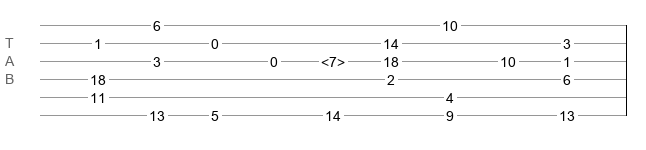0: (211, 36, 219, 46), (270, 54, 278, 64)
1: (94, 36, 102, 46), (563, 54, 571, 64)
10: (442, 18, 458, 28), (500, 54, 516, 64)
11: (90, 90, 106, 100)
13: (149, 108, 165, 118), (559, 108, 575, 118)
14: (325, 108, 341, 118), (383, 36, 399, 46)
18: (90, 72, 106, 82), (383, 54, 399, 64)
2: (387, 72, 395, 82)
3: (153, 54, 161, 64), (563, 36, 571, 46)
4: (446, 90, 454, 100)
5: (211, 108, 219, 118)
6: (153, 18, 161, 28), (563, 72, 571, 82)
9: (446, 108, 454, 118)
harmonic: (321, 54, 345, 64)
